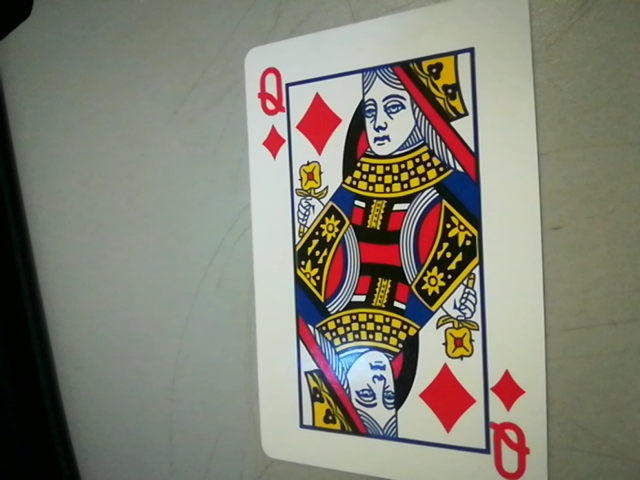fk q: (481, 367, 541, 480)
